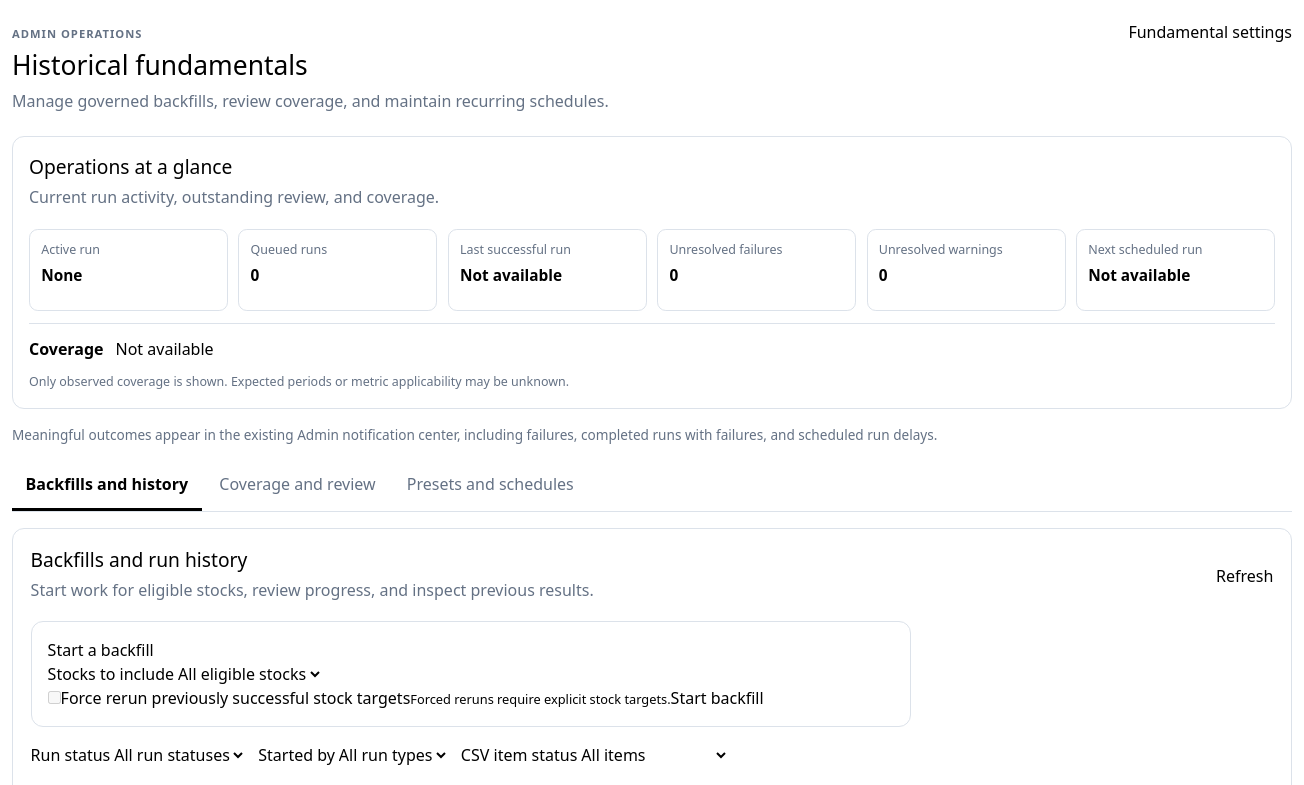
Test: BootstrapOperationsPanel › keeps coverage gaps distinct from quality warnings and explains stock-level targeting
Click the tab "Coverage and review": (297, 486) [206,461,389,511]
(page scrolled)
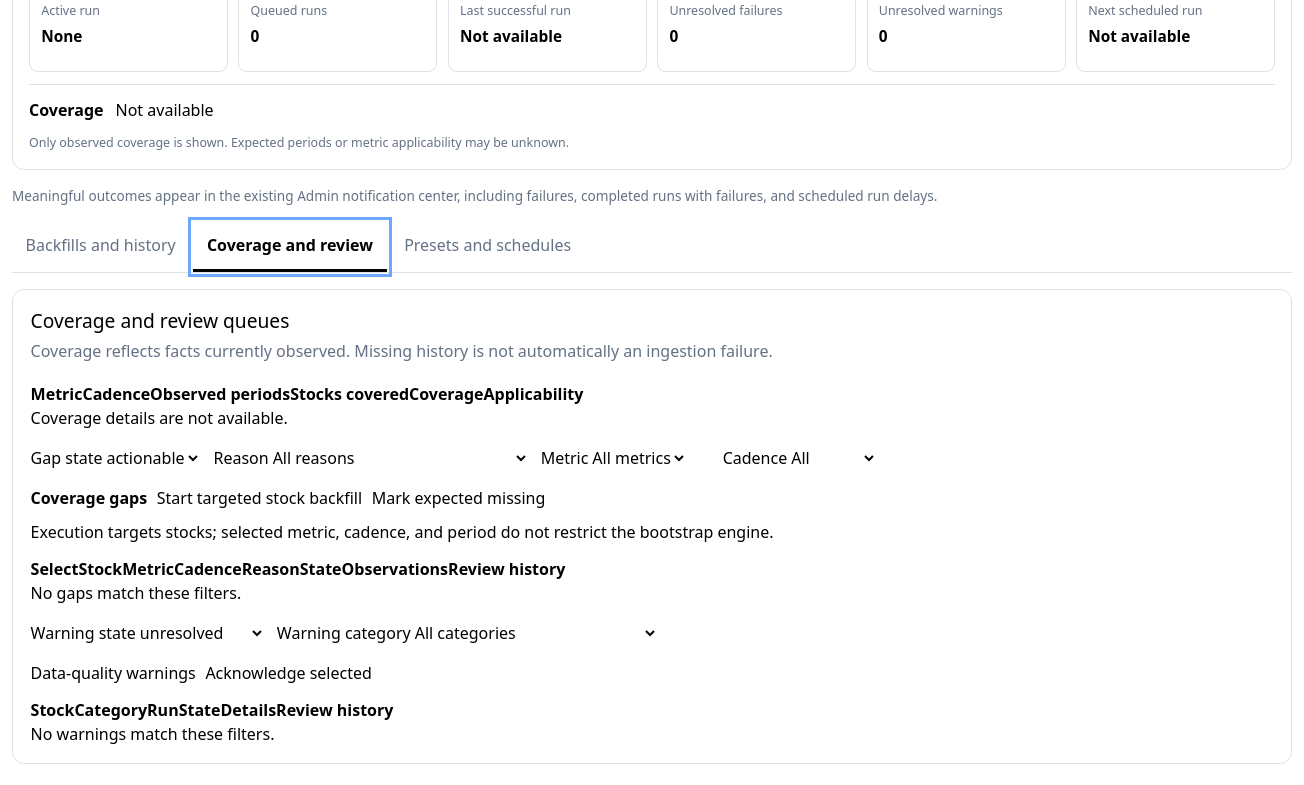
Check: the text "not automatically an ingestion failure" is shown, box [31,340,773,362]
Check: the text "selected metric, cadence, and period do not restrict" is shown, box [31,521,774,543]
Check: the heading "Data-quality warnings" is shown, box [31,661,196,685]
